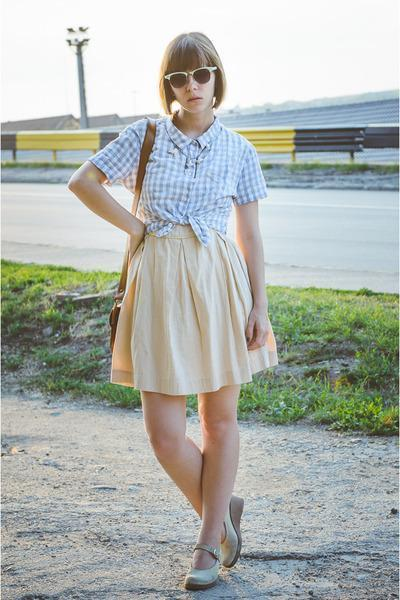bag: (103, 112, 179, 323)
shirt: (96, 114, 274, 249)
shoe: (194, 491, 251, 581)
skirt: (110, 228, 278, 395)
